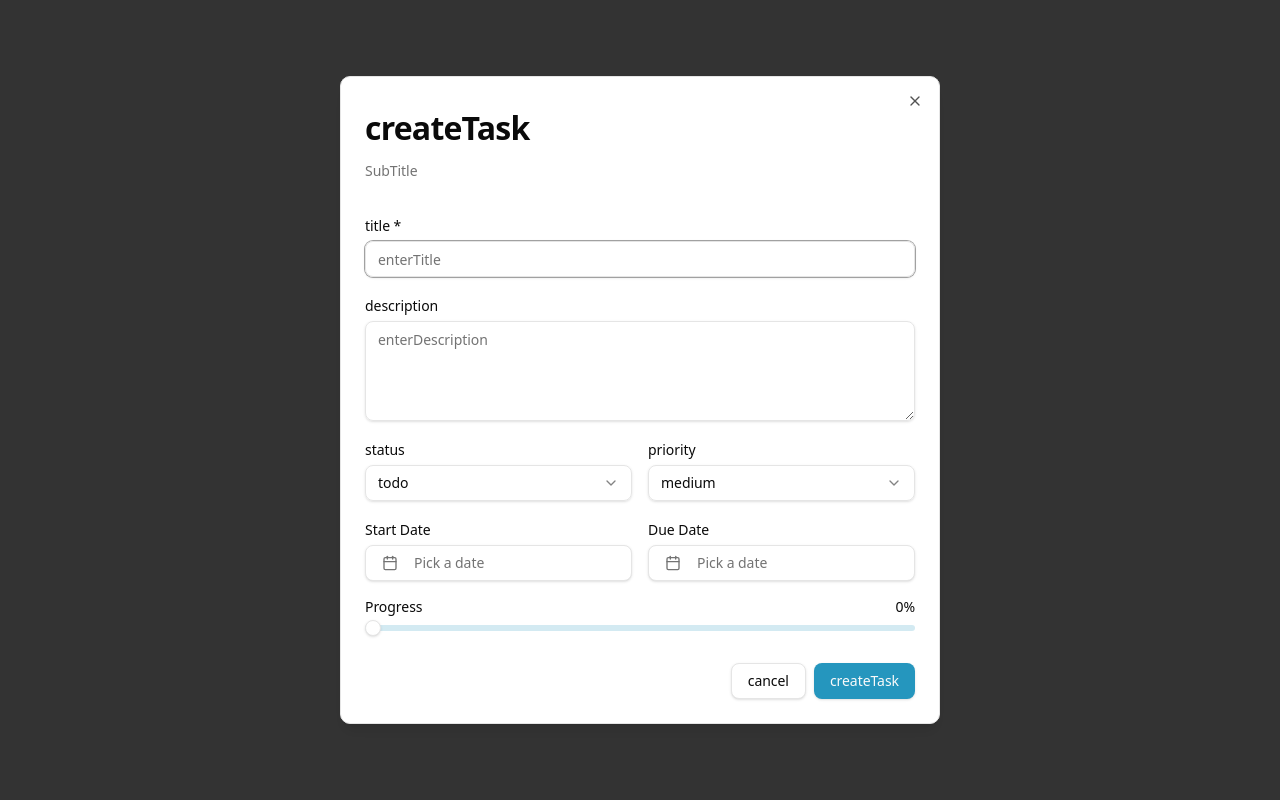
Test: TaskModal › shows validation error when title is empty
Click the button "createTask": click(864, 681) [814,663,915,699]
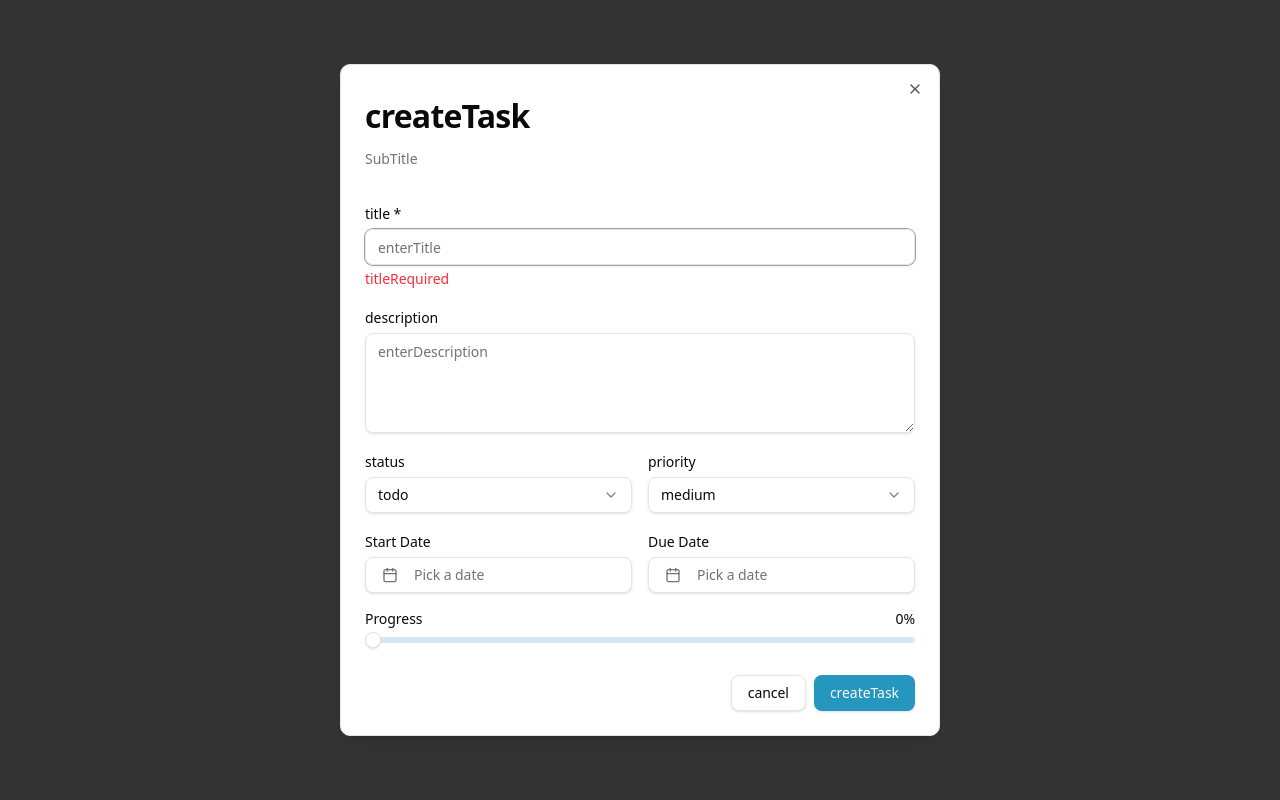
Expected: the text "titleRequired" is shown, [365,269,449,288]
